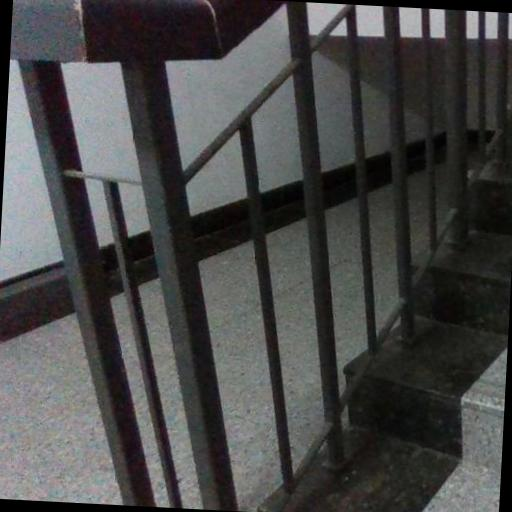stairs: (347, 161, 511, 511), (424, 349, 506, 511)
